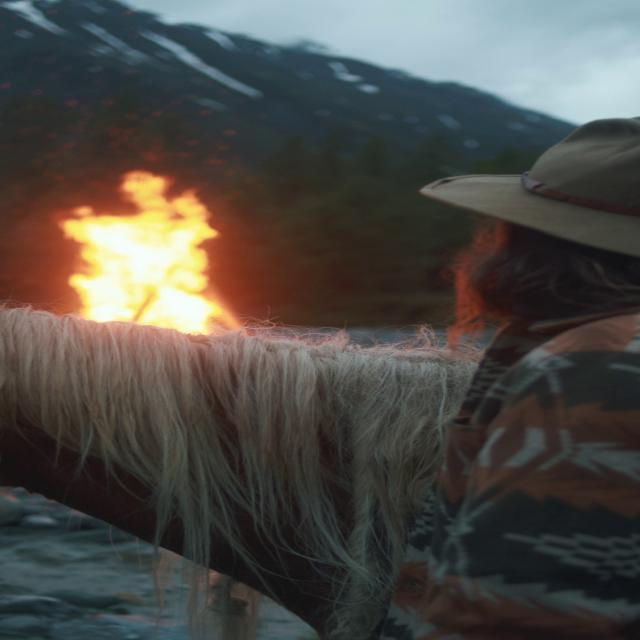Fire: (42, 163, 236, 332)
